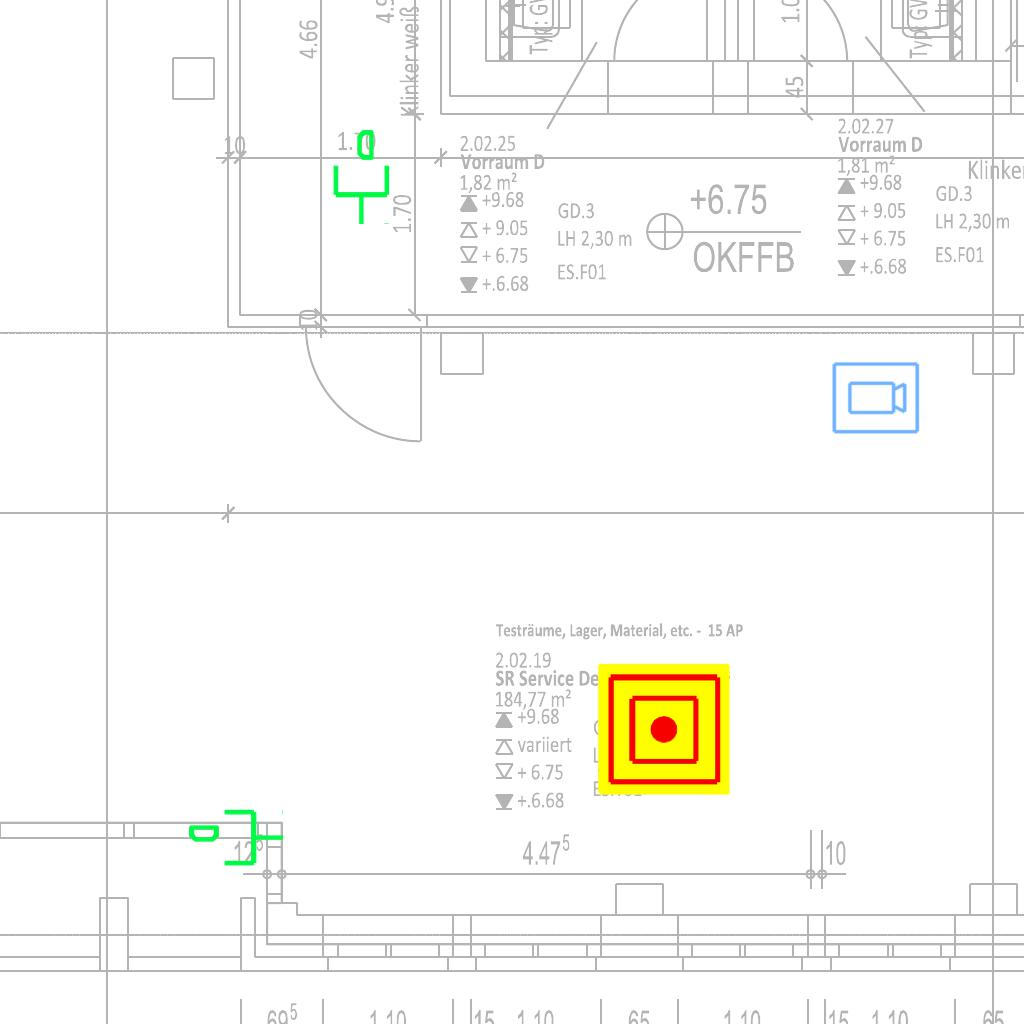Datenanschluss_einfach: (186, 805, 286, 874), (325, 127, 394, 227)
KFO_Kamera_mit_Festobjektiv: (830, 360, 921, 437)
NAM-Nichtautomatischer_Melder: (598, 663, 730, 795)
